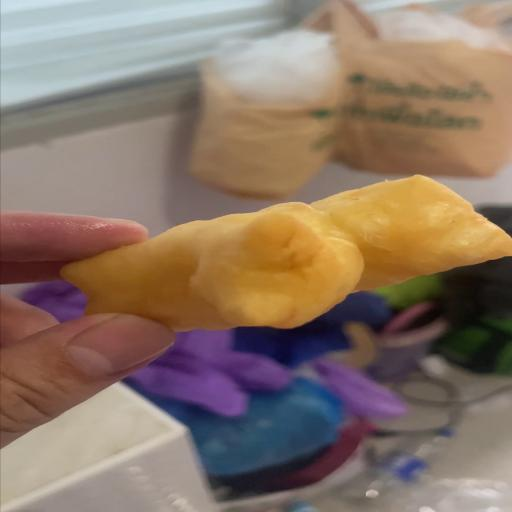street_golden_good: (61, 176, 512, 332)
